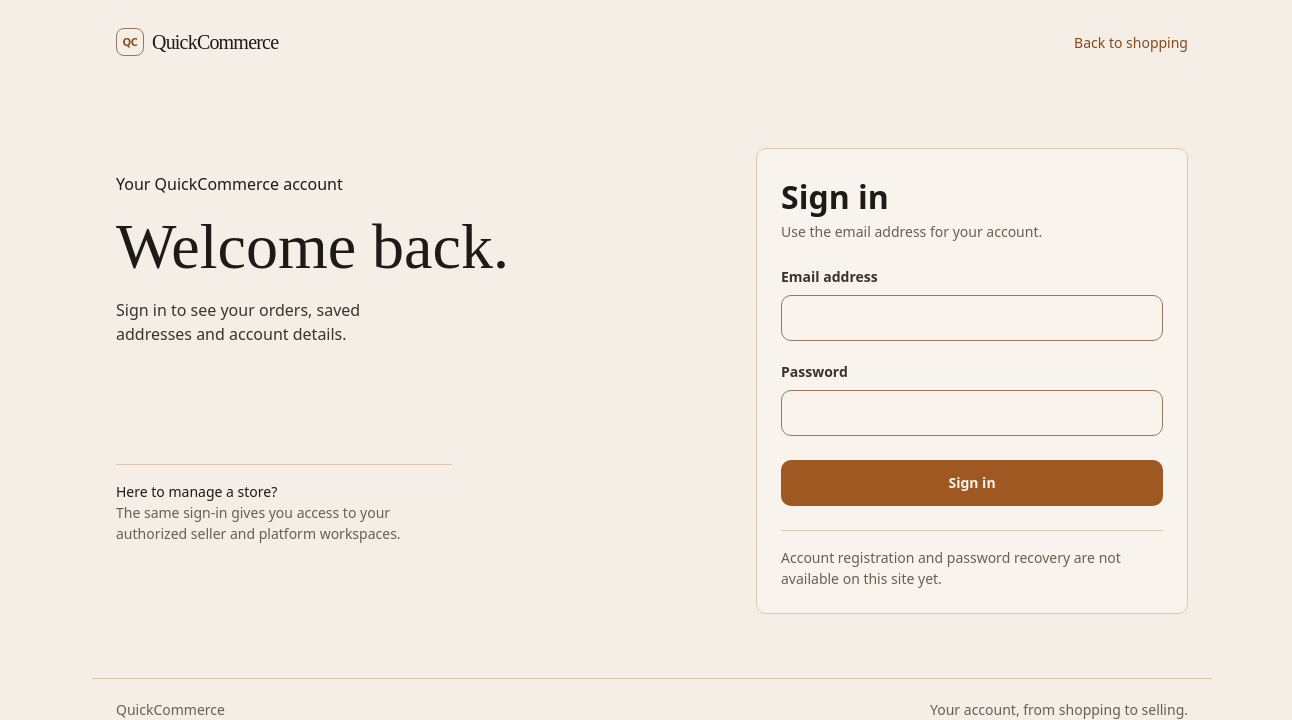
Test: session authentication UI › does not let an earlier session lookup overwrite a successful login
Type "operator@example.com" into the field labelled "Email address" at (972, 318), box [781, 295, 1163, 341]
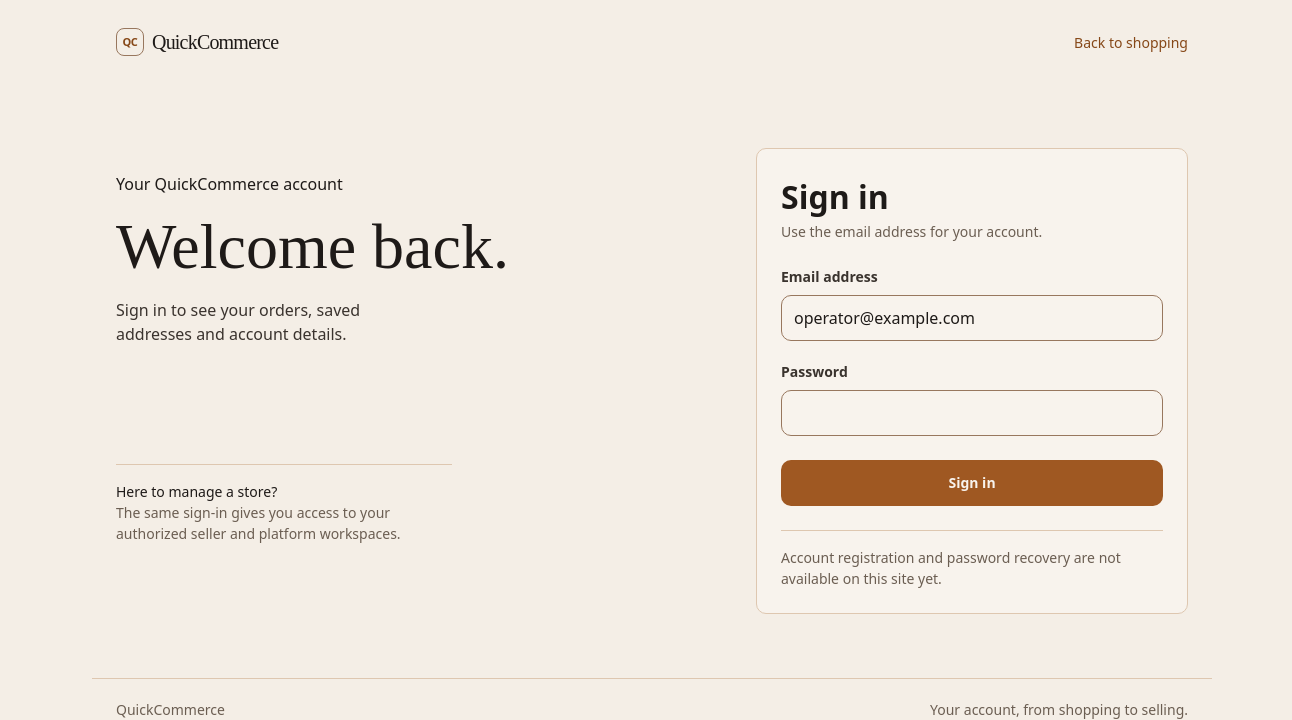
Type "test-password-value" into the password field labelled "Password" at (972, 413), box [781, 390, 1163, 436]
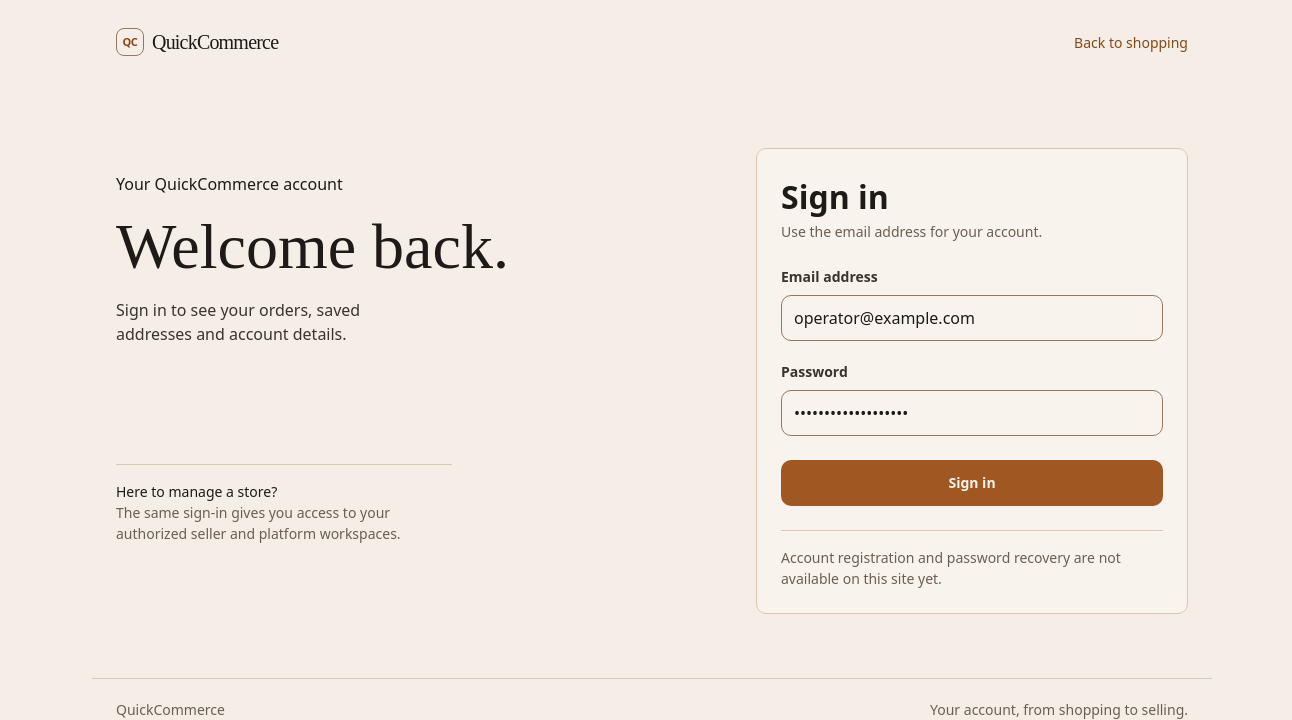
Submit the form "Sign in", box [781, 266, 1163, 506]
(page scrolled)
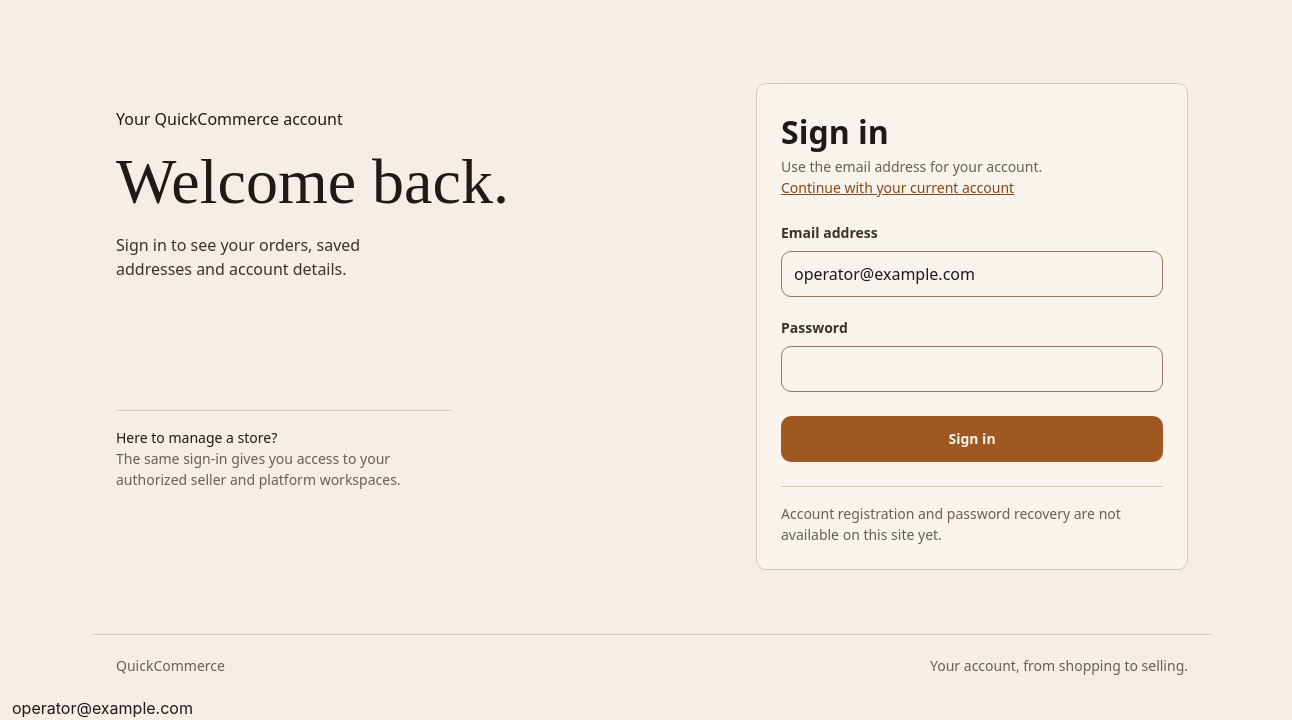
expect the text "operator@example.com" is shown: met, box [12, 698, 193, 718]
